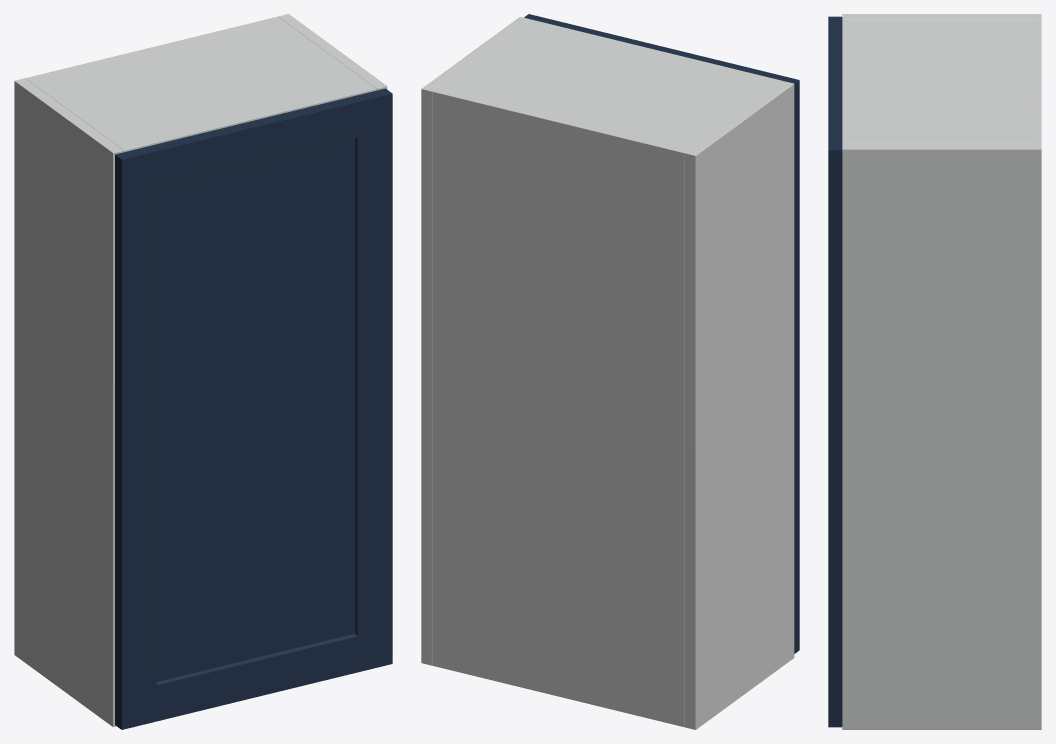
Rendered from oppein-pb-bss-w1836.glb.
3 views of the same model, side by side, from view 1: azimuth 30°, elevation 25°; view 2: azimuth 150°, elevation 25°; view 3: azimuth 270°, elevation 25° (orthographic).
Visible parts, largest first — view 1: Door, Cabinet side, Cabinet top, Cabinet side.001, Cabinet back; view 2: Cabinet back, Cabinet side, Cabinet top, Cabinet side.001, Door, Cabinet bottom; view 3: Cabinet side.001, Cabinet top, Door, Cabinet side, Cabinet back.
Boxes of the visible parts, bbox=[...] form: Door: bbox=[115, 88, 392, 729]; Cabinet side: bbox=[14, 78, 123, 726]; Cabinet top: bbox=[26, 19, 376, 152]; Cabinet side.001: bbox=[278, 14, 387, 90]; Cabinet back: bbox=[25, 16, 280, 80]; Cabinet back: bbox=[432, 88, 688, 716]; Cabinet side: bbox=[685, 81, 794, 729]; Cabinet top: bbox=[432, 19, 782, 161]; Cabinet side.001: bbox=[421, 17, 530, 665]; Door: bbox=[524, 14, 799, 653]; Cabinet bottom: bbox=[432, 660, 684, 727]; Cabinet side.001: bbox=[842, 144, 1041, 729]; Cabinet top: bbox=[842, 19, 1040, 143]; Door: bbox=[828, 16, 842, 727]; Cabinet side: bbox=[842, 14, 1041, 19]; Cabinet back: bbox=[1033, 19, 1041, 143].
Bounding box in the file's own units: 0.4572 × 0.9144 × 0.3048.
